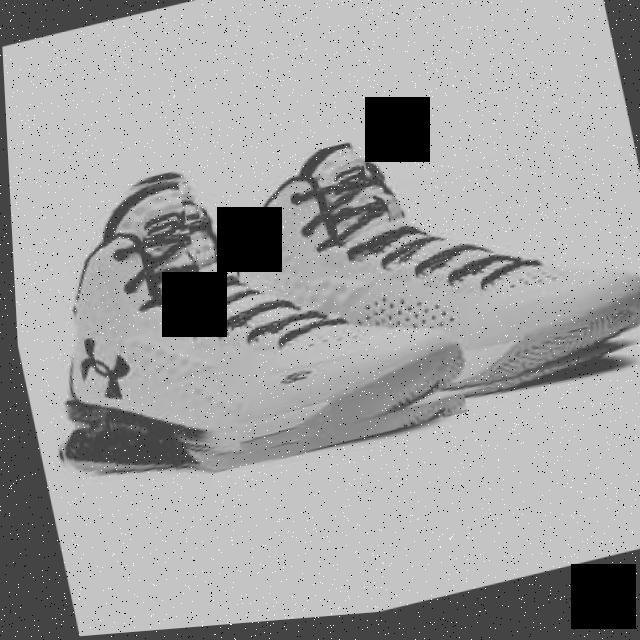shoe: (6, 118, 465, 512), (173, 89, 640, 463)
